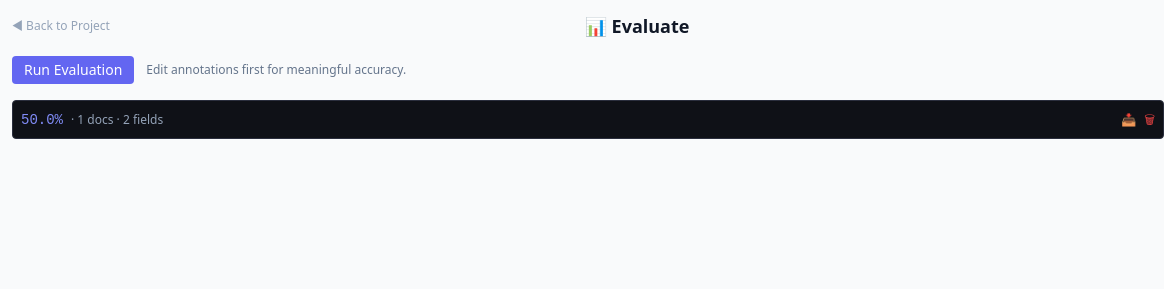
Test: EvaluatePage › clicking a run row loads detail and shows per-field summary
This screenshot has width=1164, height=289.
Click the text "50.0%" at (38, 120), box [21,112,63,128]
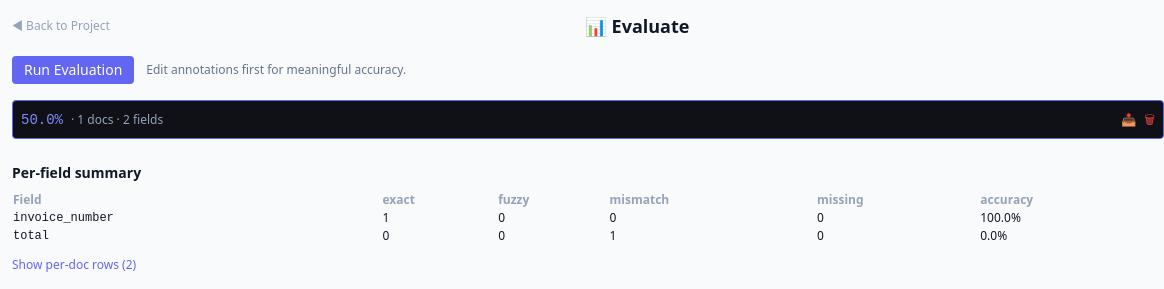
Now the heading "Per-field summary" is shown, box [12,163,141,182]
Now the text "invoice_number" is shown, box [12,209,381,227]
Now the text "total" is shown, box [12,227,381,245]
